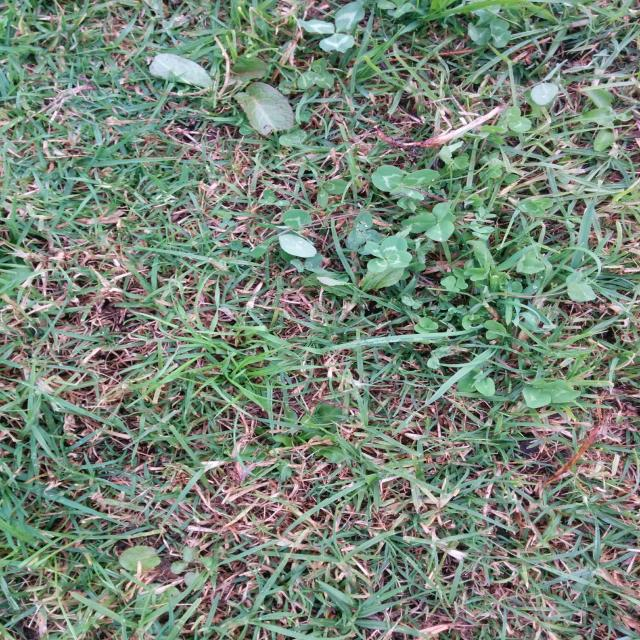Four Leaf Clover: (365, 236, 412, 272)
